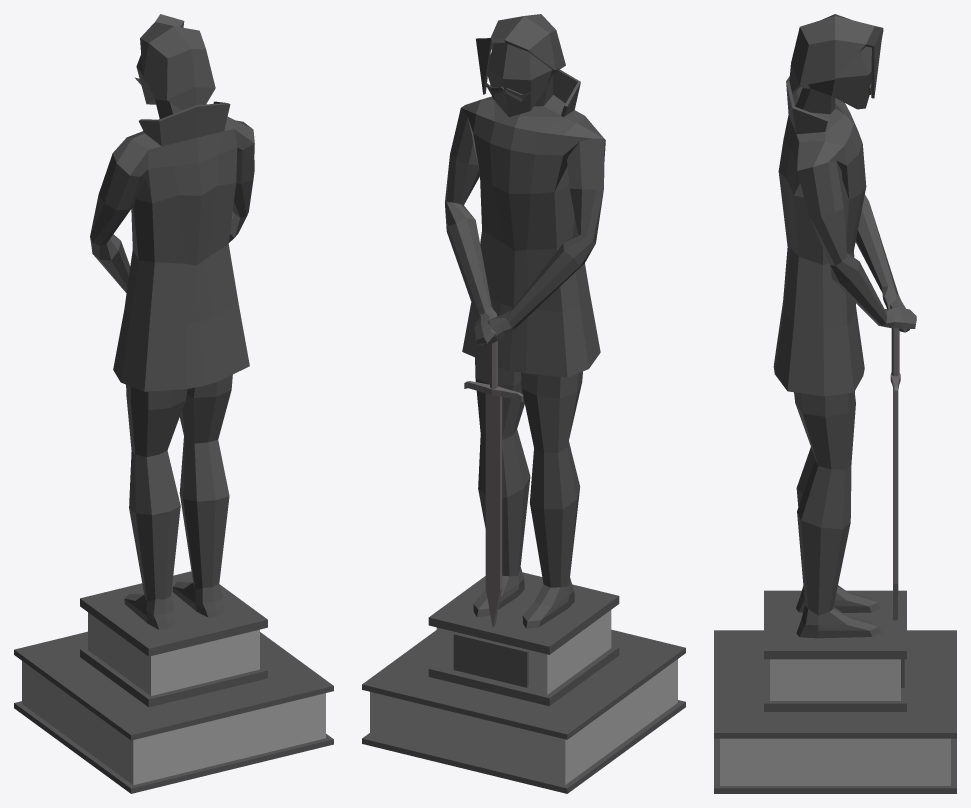
The model's file is Statue.fbx.
3 views of the same model, side by side, from view 1: azimuth 30°, elevation 25°; view 2: azimuth 150°, elevation 25°; view 3: azimuth 270°, elevation 25° (orthographic). The views are drawn at different scales.
Parts seen in each view (by area): view 1: Statue; view 2: Statue; view 3: Statue.
Part boxes in pixels (box(x1,y1,x2,y2)): Statue: box(14, 14, 333, 793); Statue: box(362, 14, 685, 793); Statue: box(714, 14, 956, 793).
Size of the model in its own units: 72.27 by 239 by 72.27.
